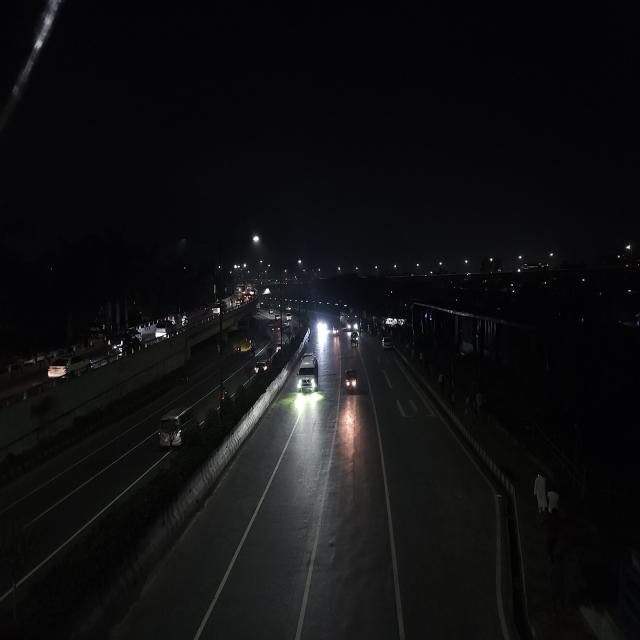bus: (270, 322, 284, 347), (346, 314, 358, 334)
car: (46, 350, 91, 382), (296, 362, 320, 395), (107, 334, 140, 357), (253, 358, 269, 377), (380, 332, 394, 352), (154, 324, 168, 341), (212, 301, 224, 316), (285, 313, 292, 321), (274, 314, 280, 321)
cng: (155, 405, 197, 453), (344, 365, 359, 396), (350, 333, 360, 346), (331, 326, 340, 338)
motorcycle: (180, 316, 188, 328), (235, 342, 242, 355), (203, 304, 210, 314)
